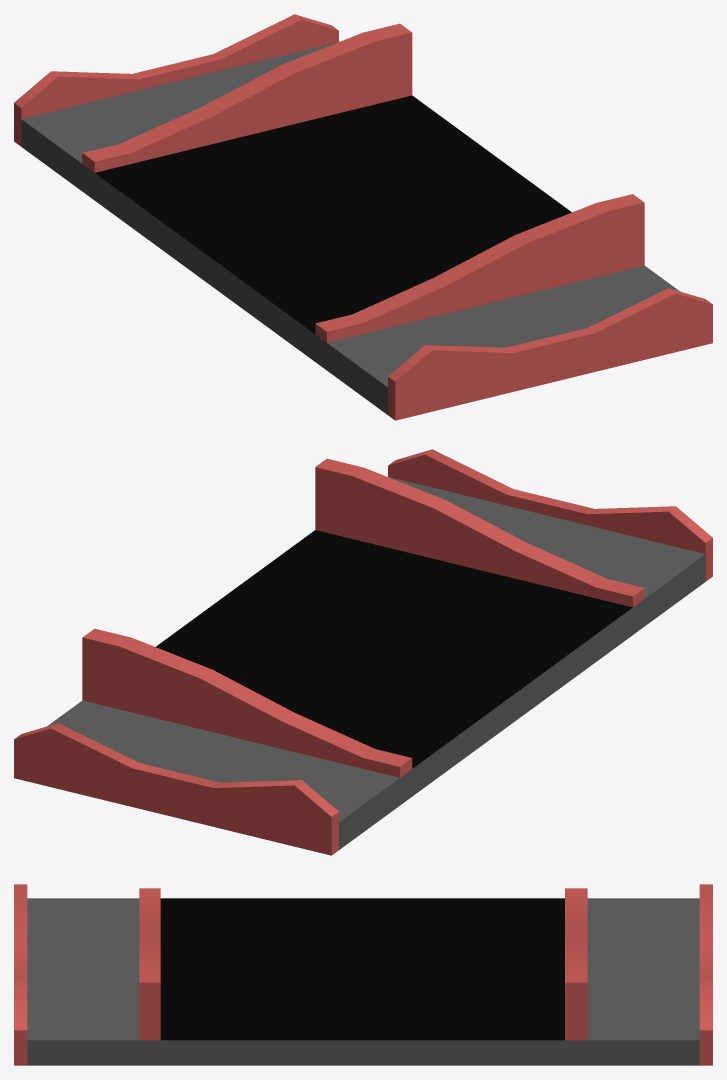
Rendered from Bridge.fbx.
3 views of the same model, one above another, from view 1: azimuth 30°, elevation 25°; view 2: azimuth 150°, elevation 25°; view 3: azimuth 270°, elevation 25° (orthographic). The views are drawn at different scales.
Visible parts, largest first — view 1: Cube.001; view 2: Cube.001; view 3: Cube.001.
Part boxes in pixels (left/top/right/bottom): Cube.001: left=14, top=14, right=712, bottom=420; Cube.001: left=14, top=449, right=712, bottom=855; Cube.001: left=14, top=884, right=712, bottom=1065.
Bounding box in the file's own units: 8829 × 2406 × 18363.
